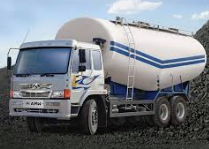truck: (6, 9, 207, 145)
